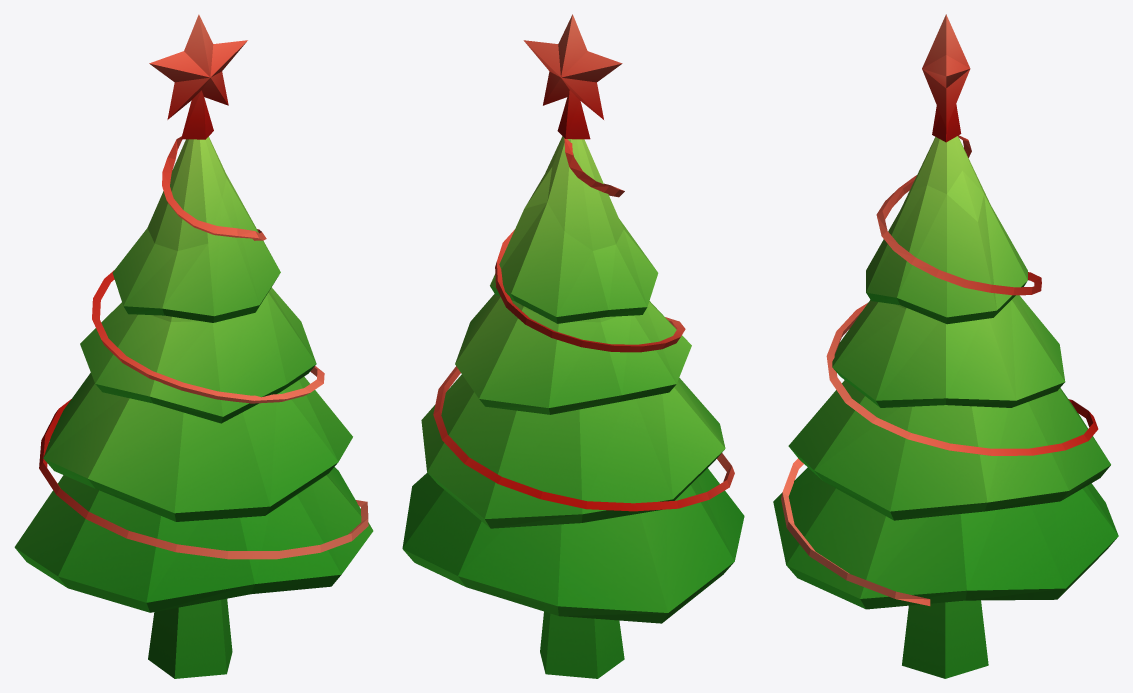
File: VEG0210048.fbx
3 renders of one model, left to right at view 1: azimuth 30°, elevation 25°; view 2: azimuth 150°, elevation 25°; view 3: azimuth 270°, elevation 25°, orthographic.
Visible parts, largest first — view 1: smVEG0210048; view 2: smVEG0210048; view 3: smVEG0210048.
Part boxes in pixels (bbox=[...]): smVEG0210048: bbox=[14, 14, 373, 678]; smVEG0210048: bbox=[402, 14, 744, 678]; smVEG0210048: bbox=[773, 14, 1118, 678].
Size of the model in its own units: 208 by 425 by 205.
Materials: 1 (1 with a texture image).
